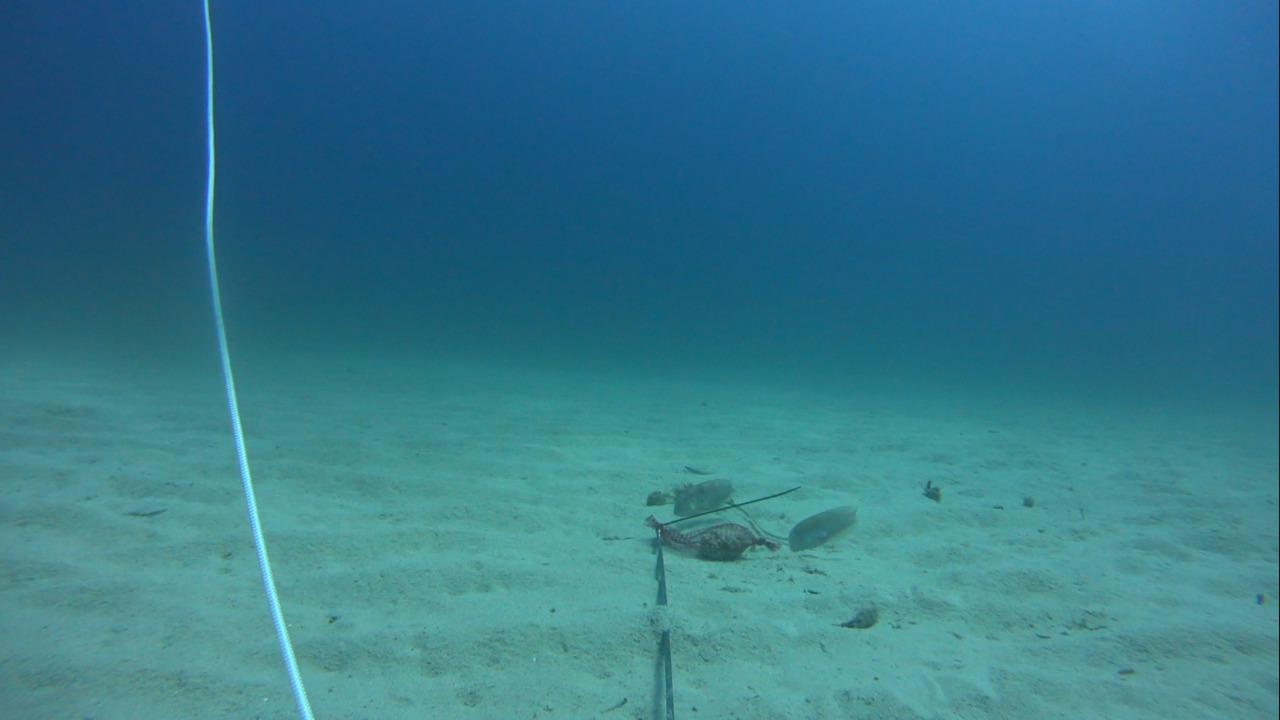raor: (786, 505, 859, 550), (668, 473, 739, 519)
